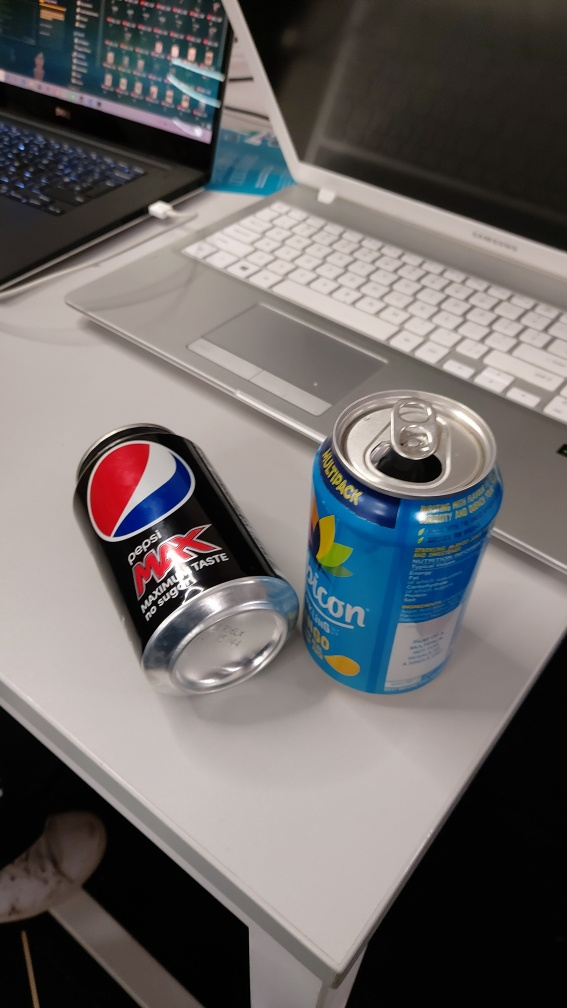can_blue: (273, 364, 517, 719)
